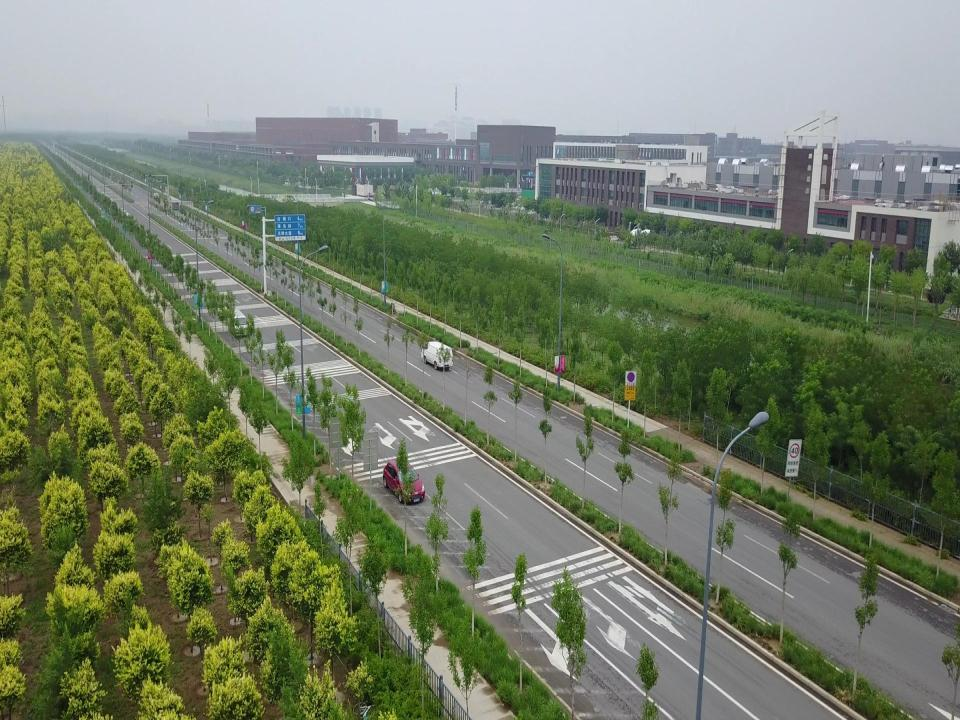car: (383, 457, 424, 503)
van: (420, 342, 454, 368)
